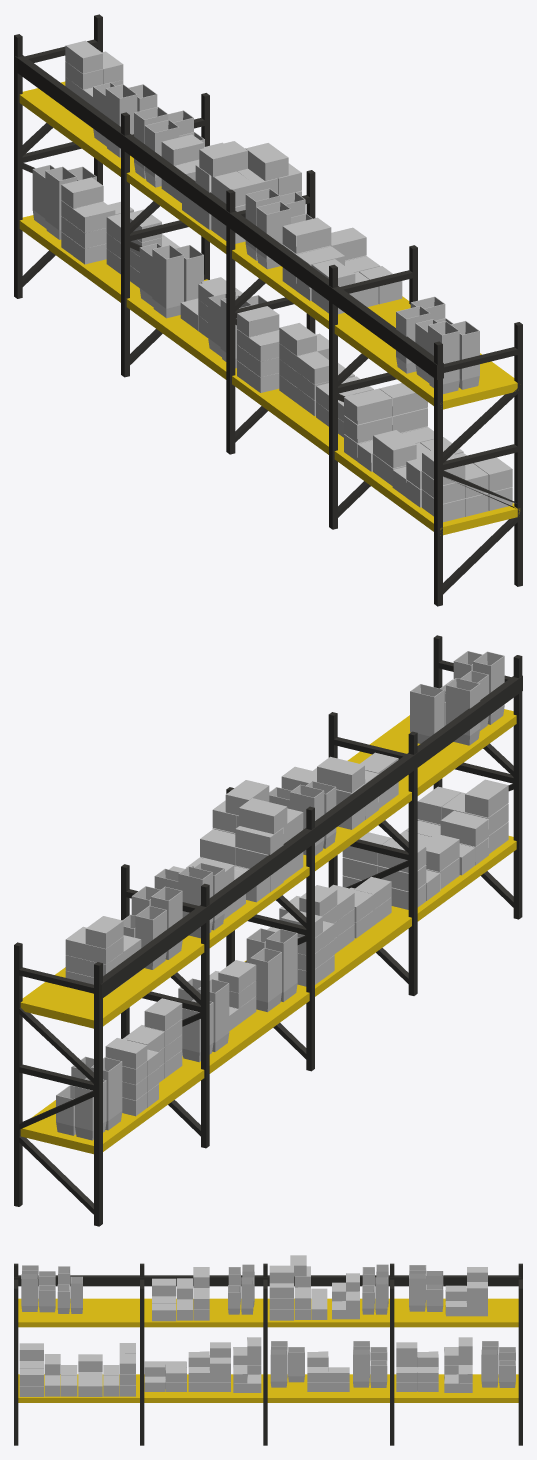
The model's file is aws_robomaker_warehouse_ShelfF_01_visual.DAE.
3 renders of one model, top to bottom at view 1: azimuth 30°, elevation 25°; view 2: azimuth 150°, elevation 25°; view 3: azimuth 270°, elevation 25°, orthographic. The views are drawn at different scales.
Visible parts, largest first — view 1: aws_robomaker_warehouse_ShelfF_01_visual; view 2: aws_robomaker_warehouse_ShelfF_01_visual; view 3: aws_robomaker_warehouse_ShelfF_01_visual.
Part boxes in pixels (x1,y1,x2,y2): aws_robomaker_warehouse_ShelfF_01_visual: (14, 14, 522, 606); aws_robomaker_warehouse_ShelfF_01_visual: (14, 635, 522, 1226); aws_robomaker_warehouse_ShelfF_01_visual: (14, 1255, 522, 1445).
Size of the model in its own units: 212 by 1805 by 653.
